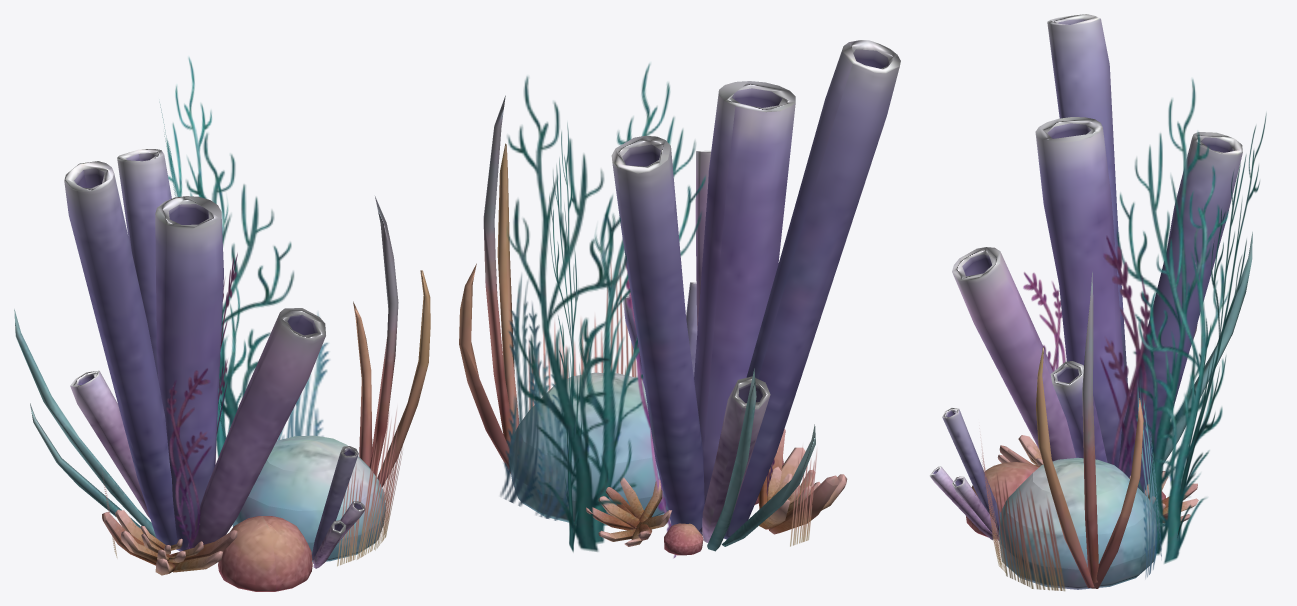
Rendered from runtime-coral-head.glb.
3 renders of one model, left to right at view 1: azimuth 30°, elevation 25°; view 2: azimuth 150°, elevation 25°; view 3: azimuth 270°, elevation 25°, orthographic. The views are drawn at different scales.
Visible parts, largest first — view 1: polySurface267, polySurface223; view 2: polySurface267, polySurface223; view 3: polySurface267, polySurface223.
Boxes of the visible parts, box(x1,y1,x2,y2) form: polySurface267: box(14, 149, 430, 591); polySurface223: box(102, 57, 403, 566); polySurface267: box(459, 40, 900, 555); polySurface223: box(500, 63, 816, 558); polySurface267: box(929, 14, 1252, 589); polySurface223: box(980, 79, 1266, 591).
Bounding box in the file's own units: 3.08 × 4.06 × 2.64.
Materials: 2 (2 with a texture image).
